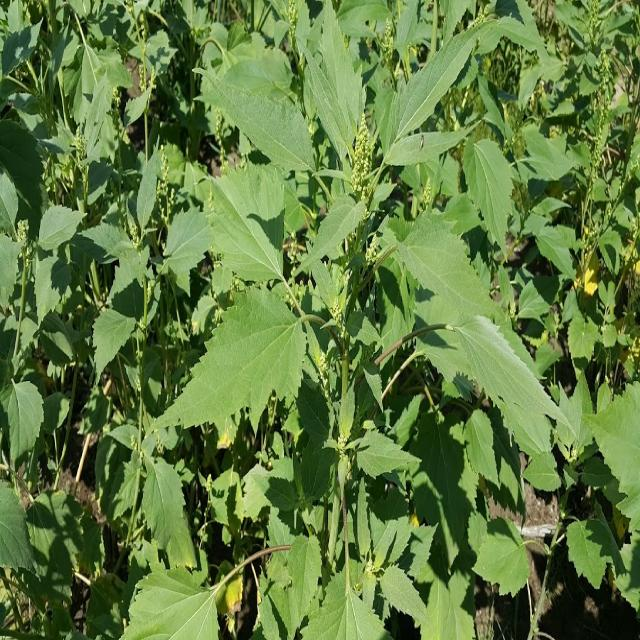ambrosia: (279, 75, 485, 410), (576, 60, 640, 330), (2, 188, 67, 330)
